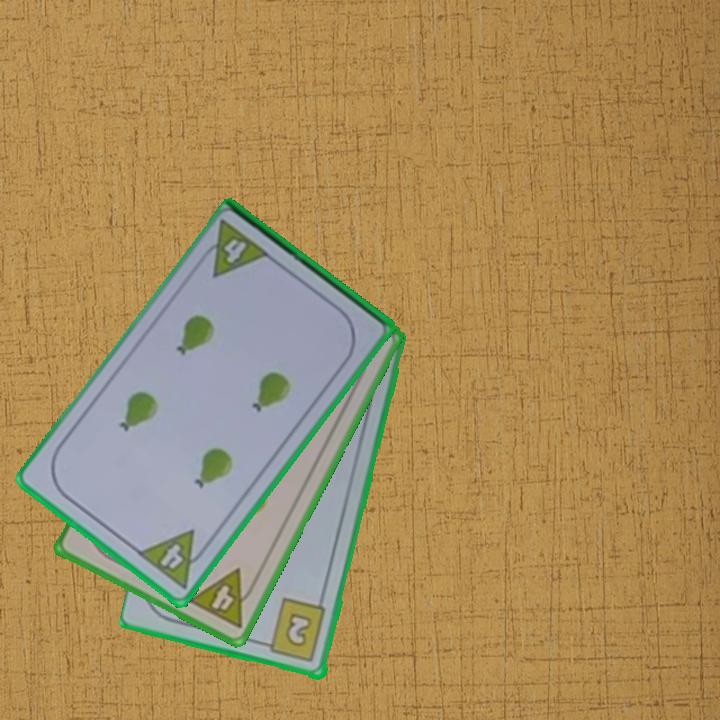2b: (258, 596, 329, 665)
4p: (134, 526, 214, 592), (184, 565, 262, 632), (194, 217, 273, 281)
